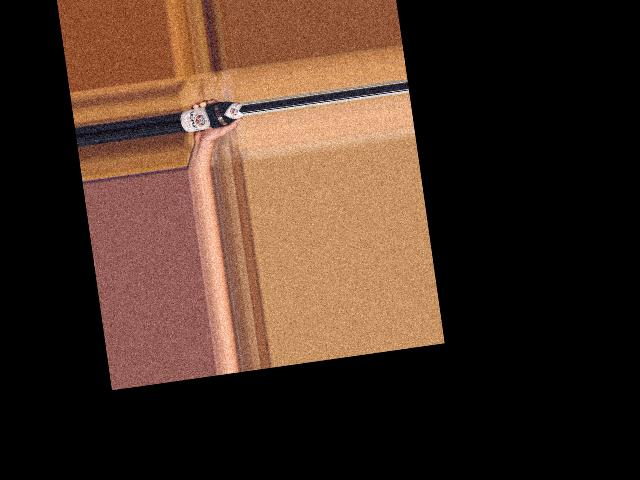beer: (178, 99, 244, 134)
